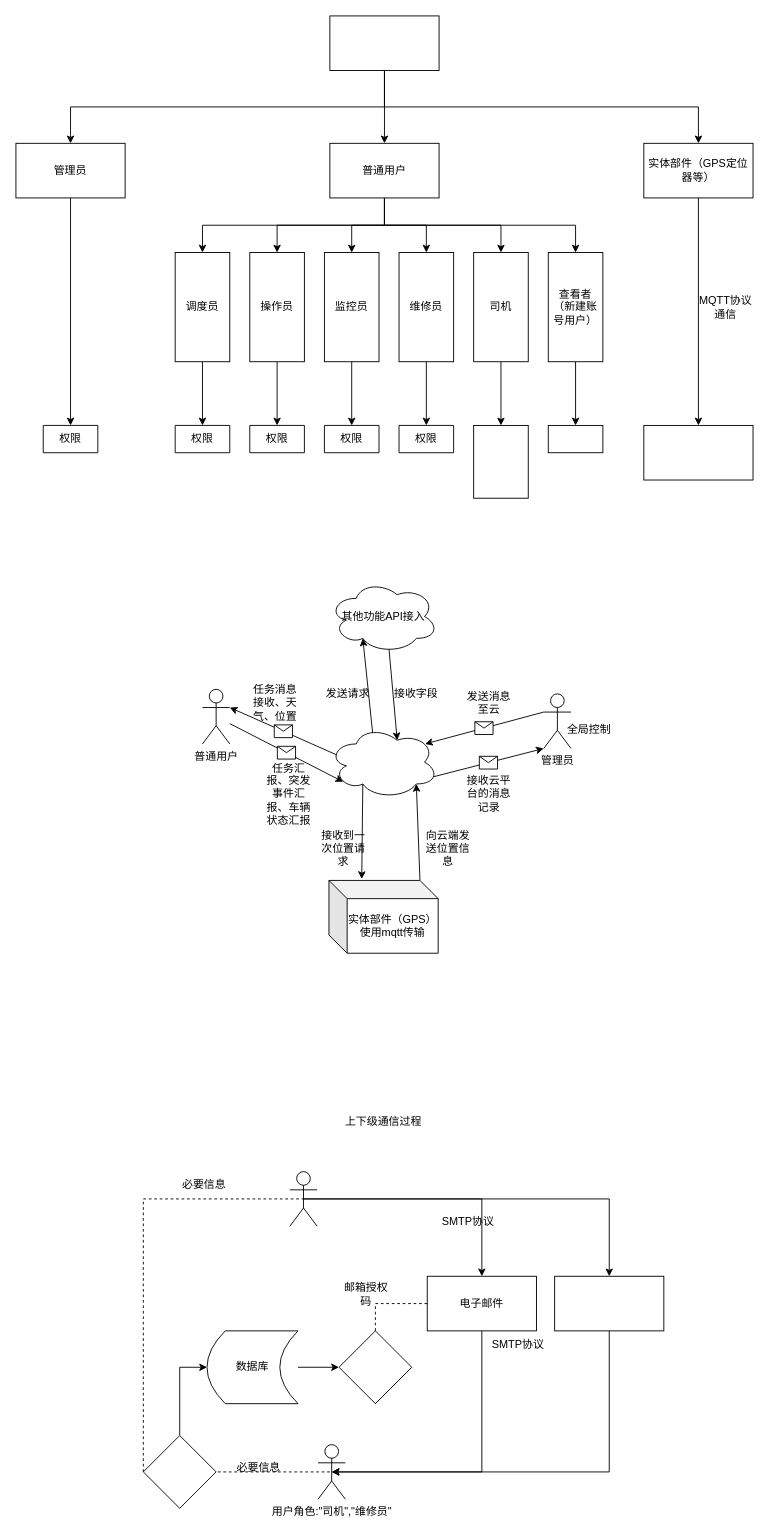
Some shapes in this 769 by 1534 pixel diagram are drawn without their labels. The centre of each missing label's shape, as x and y in pixels:
Android应用/微信小程序: (609,1303)
华为云 IoT物联网平台 （消息存储）: (383,762)
发送地址: (375,1367)
只接收任务信息和汇报车辆状态: (500,461)
向系统发送位置信息: (698,452)
数据输入: (179,1471)
无权限: (575,439)
机场车辆管理系统: (384,43)
用户角色:"系统管理员","调度员"等: (303,1198)
